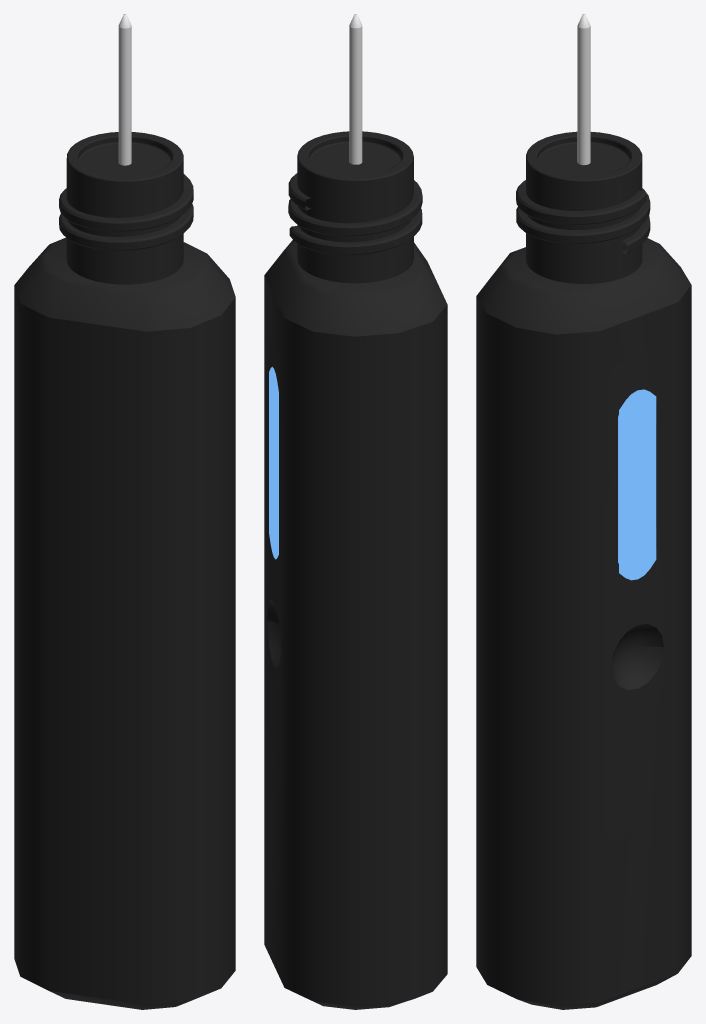
Rendered from hulecos.glb.
3 views of the same model, side by side, from view 1: azimuth 30°, elevation 25°; view 2: azimuth 150°, elevation 25°; view 3: azimuth 270°, elevation 25° (orthographic).
Parts seen in each view (by area): view 1: main, top, vis, PIC; view 2: main, top, vis, PIC, Plane.002; view 3: main, top, Plane.002, vis, PIC.
Boxes of the visible parts, x1,y1,x2,y2 form: main: (14,237,235,1009); top: (66,132,183,284); vis: (59,174,193,250); PIC: (118,14,131,165); main: (264,240,447,1009); top: (297,131,413,283); vis: (288,173,422,255); PIC: (349,14,362,164); Plane.002: (269,366,278,559); main: (476,238,691,1009); top: (526,131,642,283); Plane.002: (618,389,656,580); vis: (516,180,650,253); PIC: (577,14,590,165).
Bounding box in the file's own units: 0.8393 × 4.25 × 0.8611.
